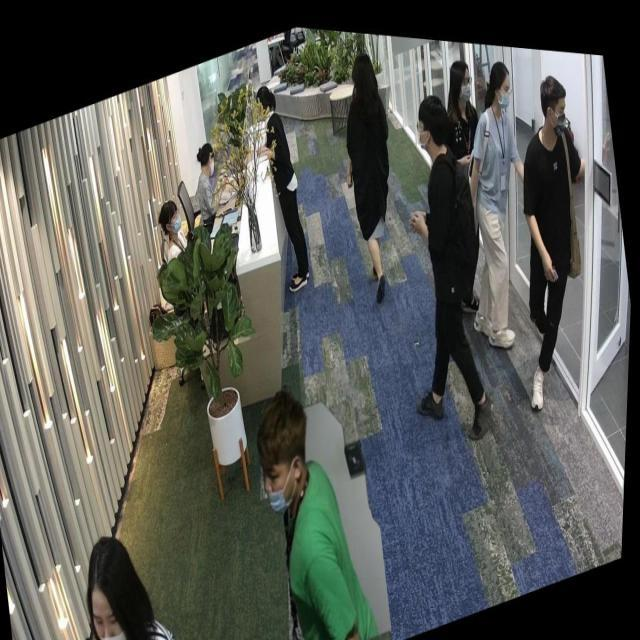hairnet: (263, 448, 303, 514)
